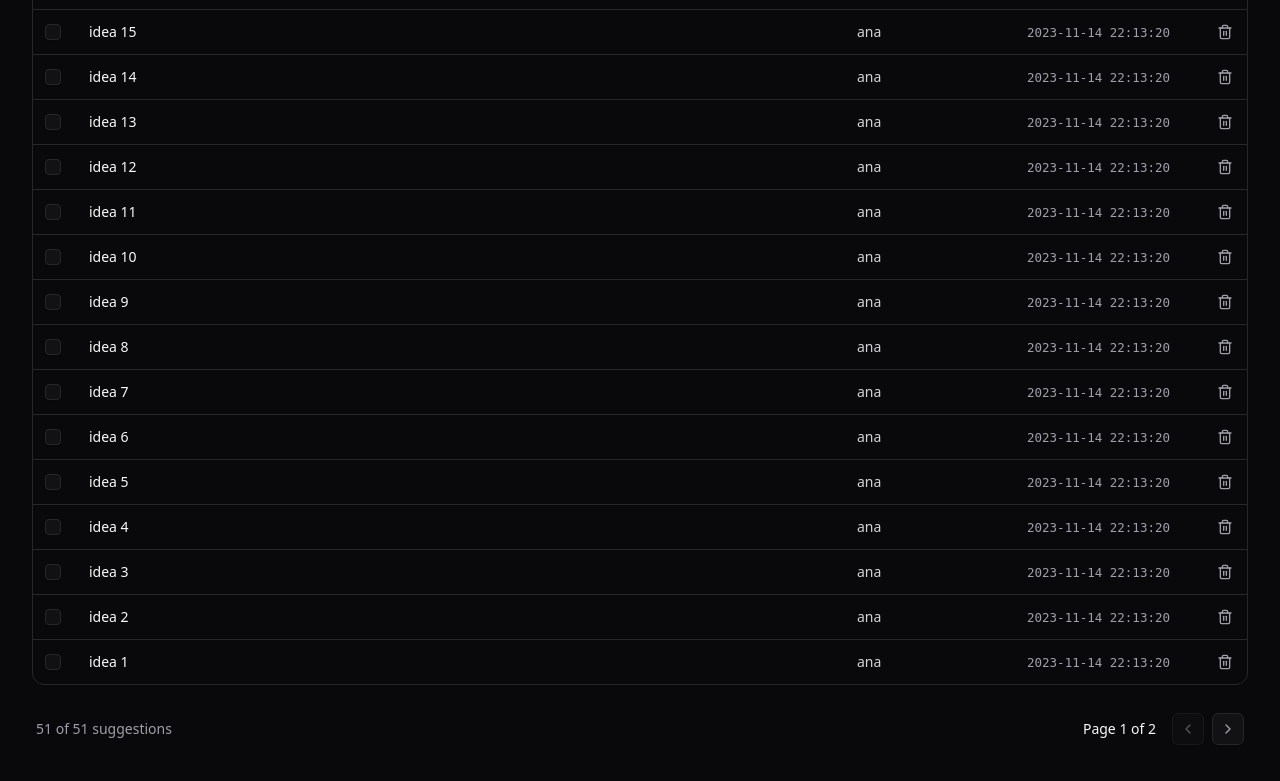
Test case: Suggestions › on a later page › moves to the last page left when deleting empties this one
(page scrolled)
What coordinates should you click on to do the following:
click the button named "Next page"
I would click on:
 (1228, 729)
Its box is x1=1212 y1=713 x2=1244 y2=745.
(page scrolled)
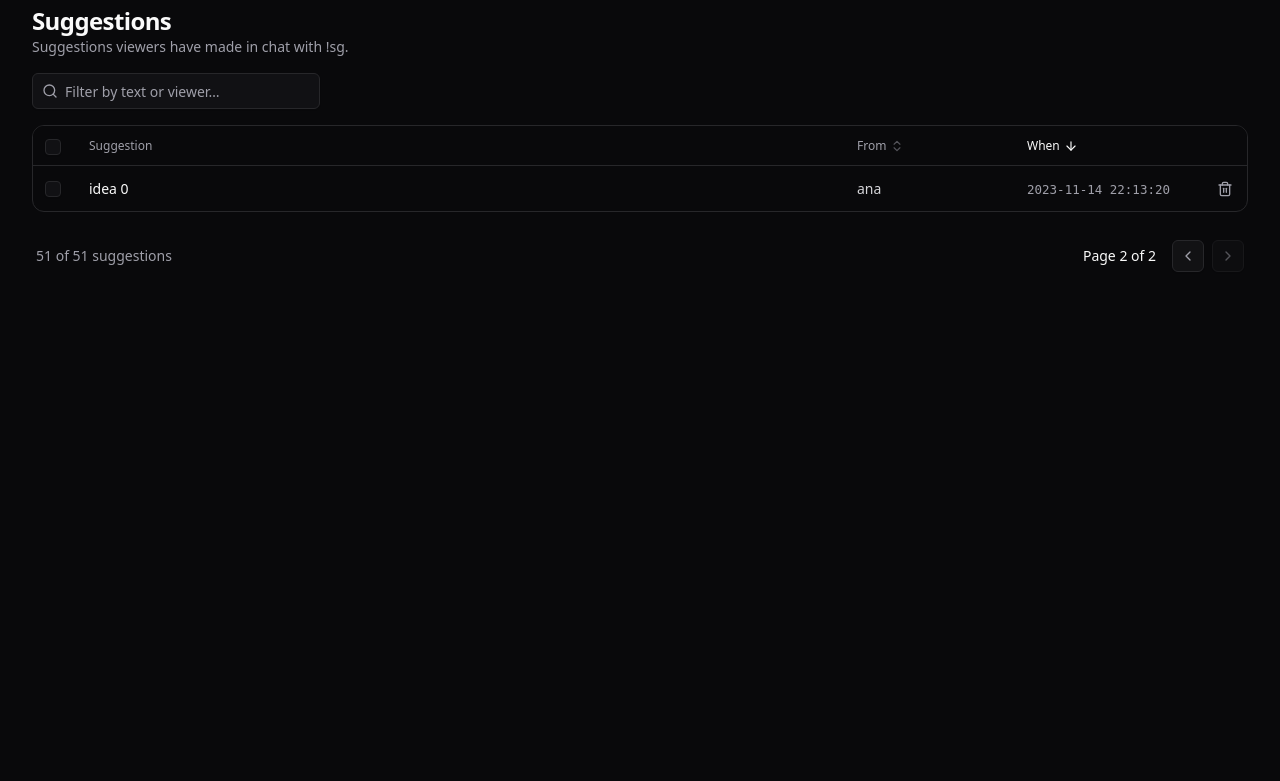
What coordinates should you click on to do the following:
click the button named "Delete suggestion"
I would click on:
 (1225, 188)
Its box is x1=1211 y1=174 x2=1239 y2=202.
(page scrolled)
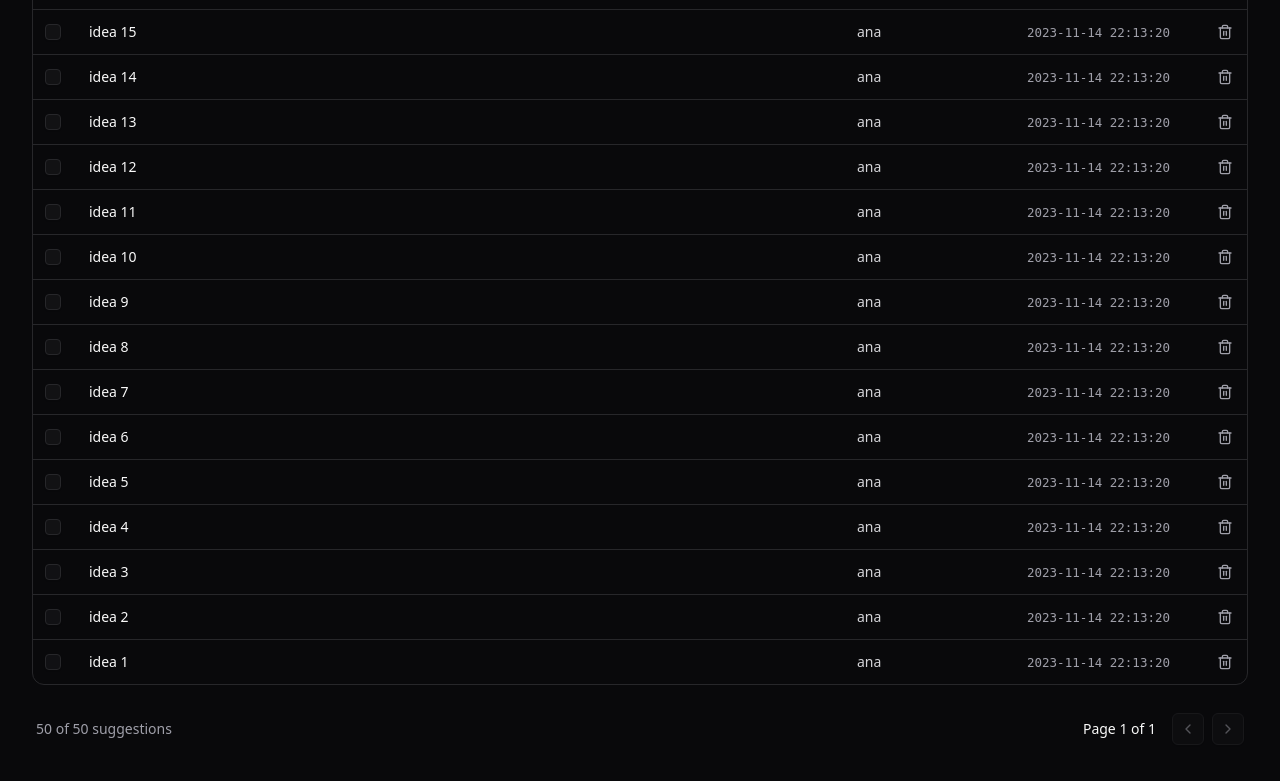
Check: the text "Page 1 of 1" is shown, box x1=1083 y1=719 x2=1156 y2=739
